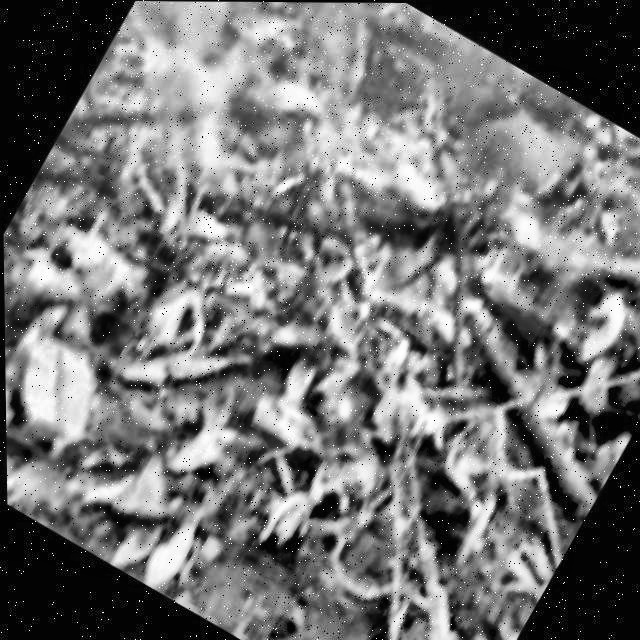Fire: (57, 0, 599, 387)
